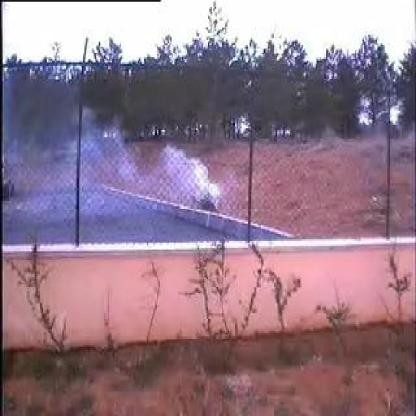-: (35, 98, 226, 242)
